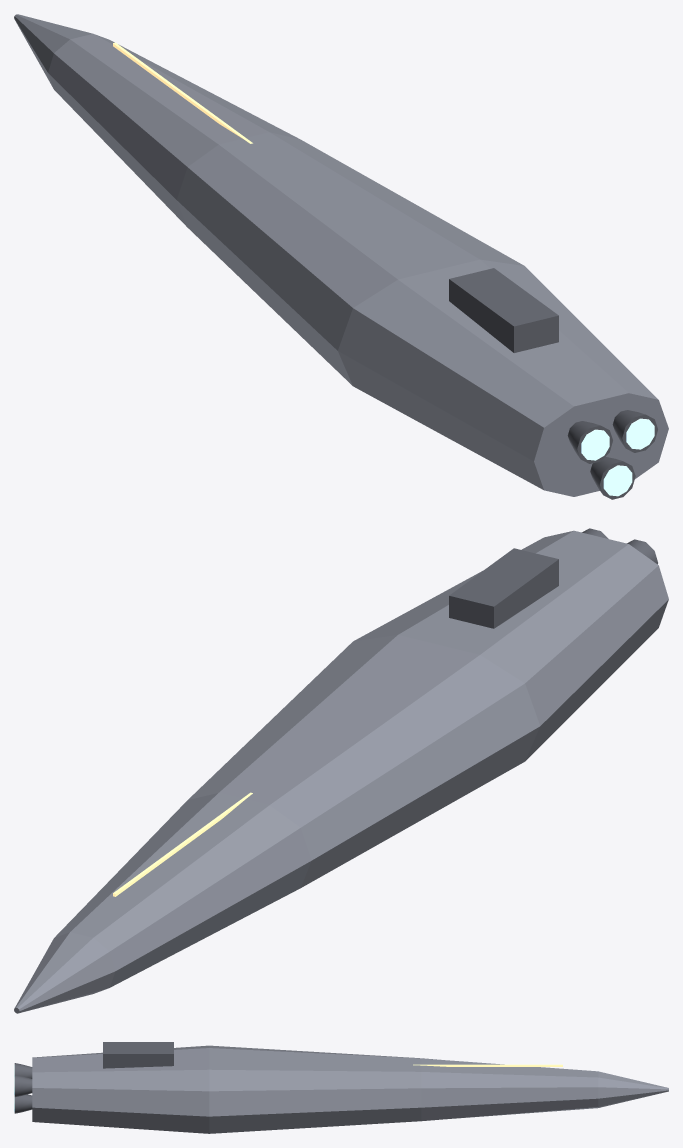
Rendered from capital_distant_b.glb.
The picture shows the model from 3 angles, top to bottom: view 1: azimuth 30°, elevation 25°; view 2: azimuth 150°, elevation 25°; view 3: azimuth 270°, elevation 25°; orthographic projection. The views are drawn at different scales.
Parts seen in each view (by area): view 1: Merged_CapitalHull, Merged_CapitalDark, Merged_CapitalEngine, Merged_CapitalStrip; view 2: Merged_CapitalHull, Merged_CapitalDark, Merged_CapitalStrip; view 3: Merged_CapitalHull, Merged_CapitalDark, Merged_CapitalStrip.
Part boxes in pixels (x1,y1,x2,y2): Merged_CapitalHull: (14,14,668,496); Merged_CapitalDark: (449,268,657,499); Merged_CapitalEngine: (581,418,654,496); Merged_CapitalStrip: (113,42,252,143); Merged_CapitalHull: (14,530,668,1013); Merged_CapitalDark: (449,528,657,628); Merged_CapitalStrip: (113,792,252,896); Merged_CapitalHull: (32,1045,668,1133); Merged_CapitalDark: (14,1042,173,1113); Merged_CapitalStrip: (413,1064,562,1066).
Bounding box in the file's own units: 36 × 22.62 × 185.
